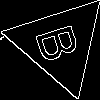B: (34, 19, 90, 65)
